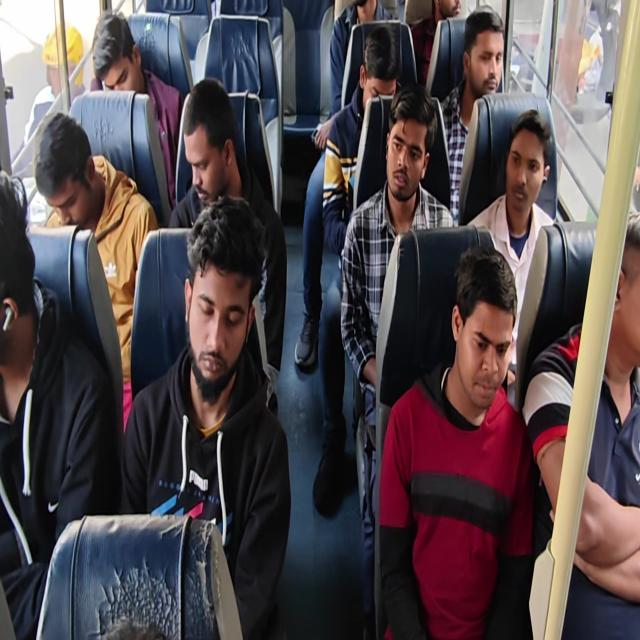person: (2, 1, 638, 638), (120, 194, 292, 638), (340, 82, 456, 636), (378, 244, 536, 638), (0, 168, 121, 638), (522, 211, 640, 638), (168, 77, 287, 417), (33, 112, 158, 432), (294, 24, 402, 370), (466, 108, 554, 396), (322, 25, 402, 256), (91, 10, 185, 206), (439, 8, 505, 223), (312, 0, 393, 149), (24, 22, 86, 146), (409, 0, 461, 88)
